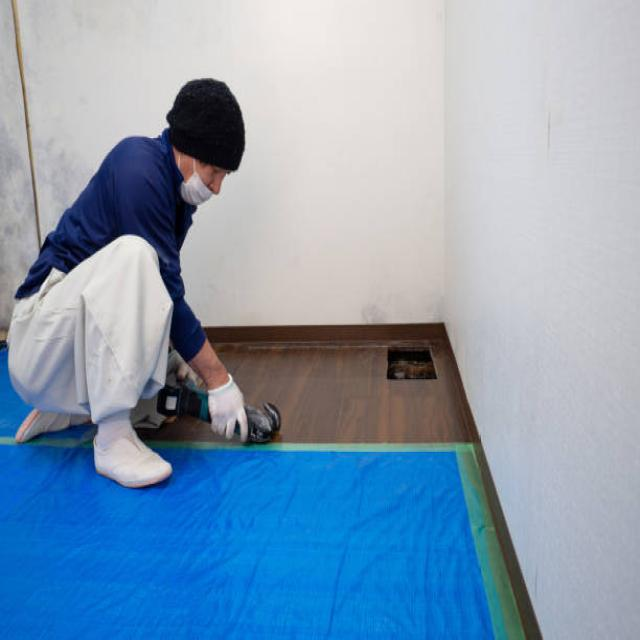gloves: (206, 375, 247, 442)
